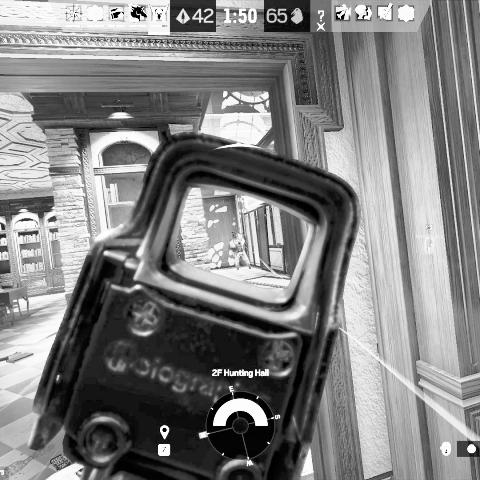Character: (231, 232, 252, 271)
Friend_label: (416, 222, 444, 240)
Head: (236, 232, 242, 239)
